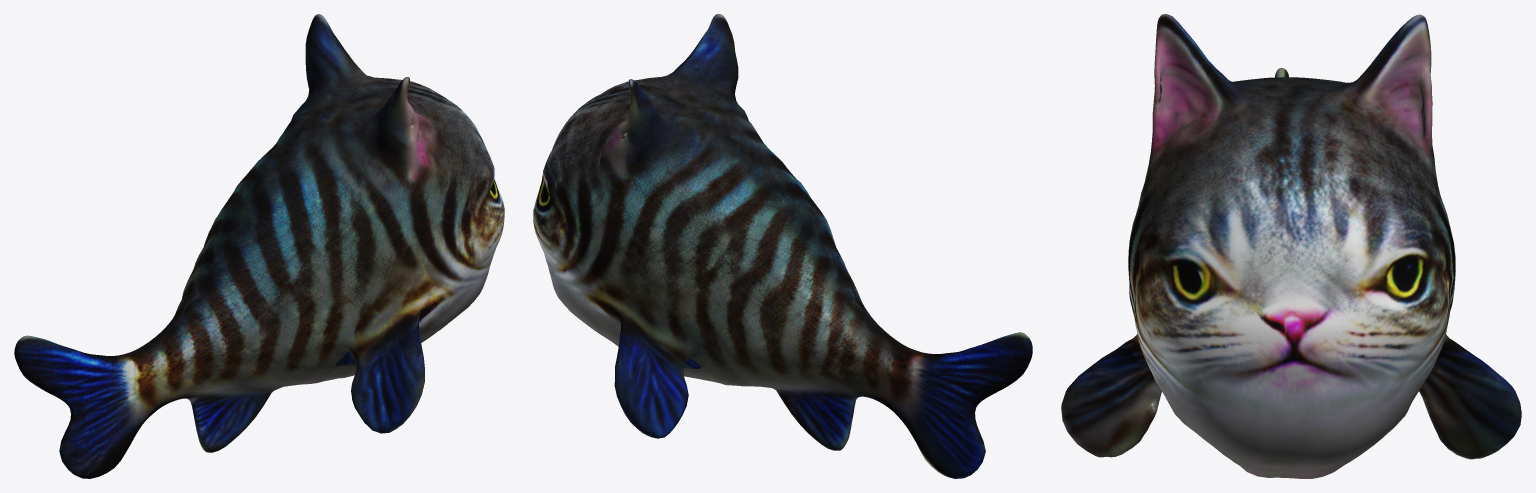
The model's file is cat_in_a_fish_form_.glb.
3 renders of one model, left to right at view 1: azimuth 30°, elevation 25°; view 2: azimuth 150°, elevation 25°; view 3: azimuth 270°, elevation 25°, orthographic. The views are drawn at different scales.
Parts seen in each view (by area): view 1: mesh; view 2: mesh; view 3: mesh.
Boxes of the visible parts, <box> form: mesh: <box>14,14,504,478</box>; mesh: <box>533,14,1032,478</box>; mesh: <box>1061,14,1521,478</box>.
Bounding box in the file's own units: 0.999 × 0.7437 × 0.5885.
Materials: 1 (1 with a texture image).
